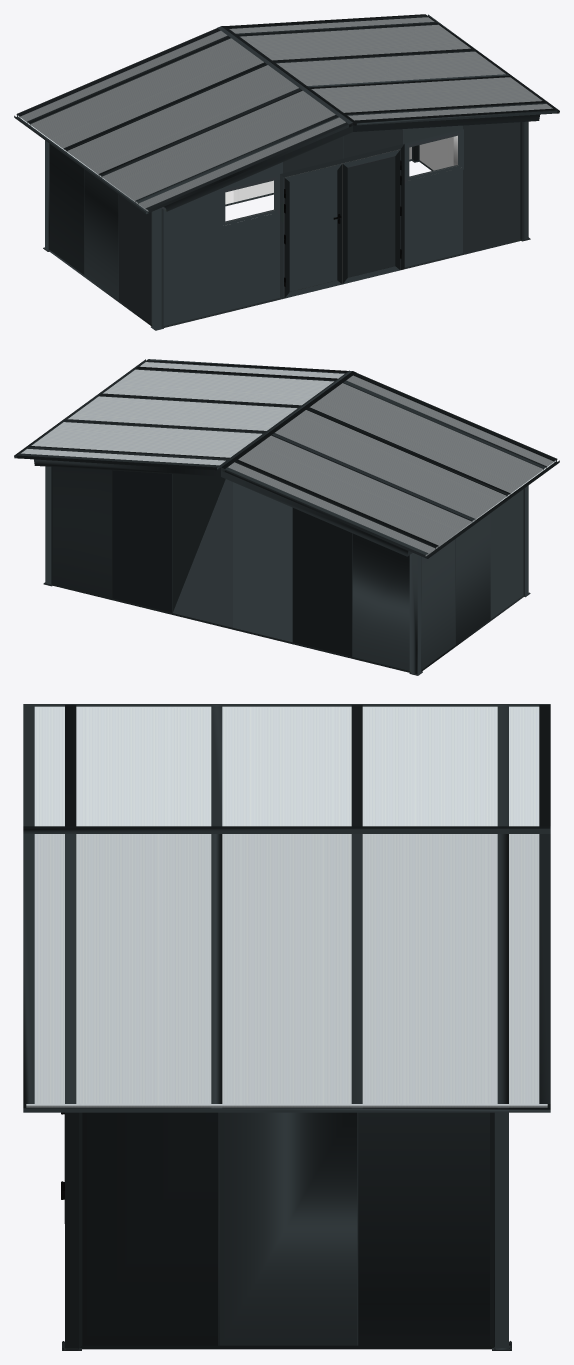
3 views of the same model, one above another, from view 1: azimuth 30°, elevation 25°; view 2: azimuth 150°, elevation 25°; view 3: azimuth 270°, elevation 25° (orthographic). The views are drawn at different scales.
Parts seen in each view (by area): view 1: priximbattable_net_abris_de_jardin_640007_abri_de_jardin_lav, folha, folha_2, porta_avec_hublot_1; view 2: priximbattable_net_abris_de_jardin_640007_abri_de_jardin_lav; view 3: priximbattable_net_abris_de_jardin_640007_abri_de_jardin_lav.
Part boxes in pixels (box(x1,y1,x2,y2)): priximbattable_net_abris_de_jardin_640007_abri_de_jardin_lav: box(14, 14, 559, 330); folha: box(342, 149, 401, 284); folha_2: box(284, 163, 342, 298); porta_avec_hublot_1: box(280, 144, 404, 299); priximbattable_net_abris_de_jardin_640007_abri_de_jardin_lav: box(14, 359, 559, 675); priximbattable_net_abris_de_jardin_640007_abri_de_jardin_lav: box(23, 704, 550, 1350).
Size of the model in its own units: 689 by 270 by 380.
1 material, 1 textured.
